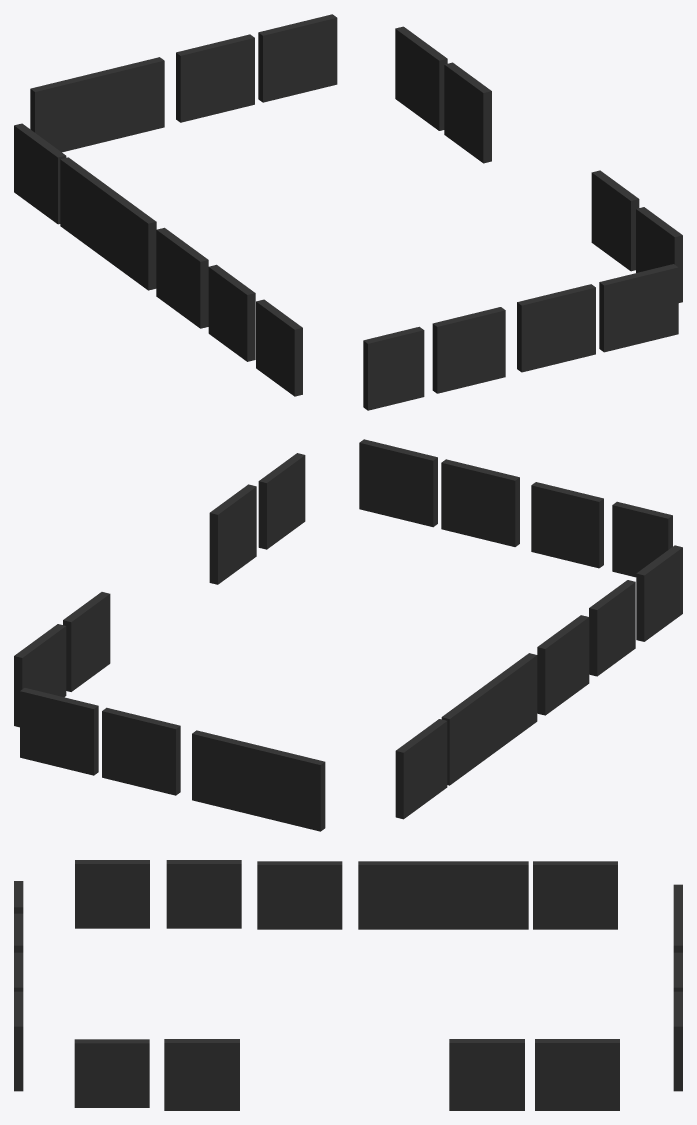
File: pokeVidrio.obj
3 renders of one model, top to bottom at view 1: azimuth 30°, elevation 25°; view 2: azimuth 150°, elevation 25°; view 3: azimuth 270°, elevation 25°, orthographic. The views are drawn at different scales.
Parts seen in each view (by area): view 1: pasted__pasted__pasted__pasted__pasted__pasted__pasted__pasted__, group94 pasted__pasted__pasted__pasted__pasted__pasted__pasted__, pasted__pasted__pasted__pasted__pasted__pasted__pasted__pCube18 , pasted__pasted__pasted__pCube18 pasted__pasted__group84 pasted__, pasted__pasted__pasted__pasted__pCube18 pasted__pasted__pasted__, pasted__pasted__pasted__pasted__pasted__pCube13 pasted__pasted__, pasted__pasted__pasted__pasted__pCube13 pasted__pasted__pasted__, pasted__pasted__pCube13 pasted__group71 group82, pasted__pasted__pCube18 pasted__group84 group85, pasted__pasted__pasted__pasted__pasted__pasted__pCube18 pasted__, pasted__pCube18 group84, pasted__pasted__pasted__pasted__pasted__pCube18 pasted__pasted__ (+1 smaller); view 2: pasted__pasted__pasted__pasted__pasted__pasted__pasted__pasted__, group94 pasted__pasted__pasted__pasted__pasted__pasted__pasted__, pasted__pasted__pasted__pasted__pasted__pasted__pasted__pCube18 , pasted__pasted__pasted__pCube18 pasted__pasted__group84 pasted__, pasted__pasted__pasted__pasted__pasted__pasted__pCube18 pasted__, pasted__pasted__pCube13 pasted__group71 group82, pCube18, pasted__pasted__pasted__pasted__pasted__pCube18 pasted__pasted__, pasted__pasted__pasted__pasted__pCube13 pasted__pasted__pasted__, pasted__pasted__pCube18 pasted__group84 group85, pasted__pCube18 group84, pasted__pasted__pasted__pasted__pCube18 pasted__pasted__pasted__ (+1 smaller); view 3: pasted__pasted__pasted__pasted__pasted__pCube13 pasted__pasted__, pasted__pasted__pasted__pCube18 pasted__pasted__group84 pasted__, pasted__pasted__pasted__pasted__pCube18 pasted__pasted__pasted__, pasted__pasted__pasted__pasted__pasted__pCube18 pasted__pasted__, pasted__pasted__pasted__pasted__pasted__pasted__pCube18 pasted__, pasted__pasted__pasted__pasted__pCube13 pasted__pasted__pasted__, pasted__pasted__pCube13 pasted__group71 group82, pCube18, pasted__pasted__pCube18 pasted__group84 group85, pasted__pCube18 group84, pasted__pasted__pasted__pasted__pasted__pasted__pasted__pasted__, group94 pasted__pasted__pasted__pasted__pasted__pasted__pasted__.
Boxes of the visible parts, x1,y1,x2,y2 form: pasted__pasted__pasted__pasted__pasted__pasted__pasted__pasted__: (92,14,678,352); group94 pasted__pasted__pasted__pasted__pasted__pasted__pasted__: (363,284,595,410); pasted__pasted__pasted__pasted__pasted__pasted__pasted__pCube18 : (30,73,96,152); pasted__pasted__pasted__pCube18 pasted__pasted__group84 pasted__: (156,227,208,328); pasted__pasted__pasted__pasted__pCube18 pasted__pasted__pasted__: (104,189,156,290); pasted__pasted__pasted__pasted__pasted__pCube13 pasted__pasted__: (395,26,447,130); pasted__pasted__pasted__pasted__pCube13 pasted__pasted__pasted__: (444,62,491,163); pasted__pasted__pCube13 pasted__group71 group82: (591,170,639,271); pasted__pasted__pCube18 pasted__group84 group85: (208,264,255,361); pasted__pasted__pasted__pasted__pasted__pasted__pCube18 pasted__: (14,123,66,224); pasted__pCube18 group84: (256,299,302,396); pasted__pasted__pasted__pasted__pasted__pCube18 pasted__pasted__: (60,157,111,257); pasted__pasted__pasted__pasted__pasted__pasted__pasted__pasted__: (20,439,437,816); group94 pasted__pasted__pasted__pasted__pasted__pasted__pasted__: (441,459,672,577); pasted__pasted__pasted__pasted__pasted__pasted__pasted__pCube18 : (260,747,325,831); pasted__pasted__pasted__pCube18 pasted__pasted__group84 pasted__: (537,615,589,715); pasted__pasted__pasted__pasted__pasted__pasted__pCube18 pasted__: (395,719,447,819); pasted__pasted__pCube13 pasted__group71 group82: (209,484,256,584); pCube18: (258,453,305,549); pasted__pasted__pasted__pasted__pasted__pCube18 pasted__pasted__: (441,685,493,785); pasted__pasted__pasted__pasted__pCube13 pasted__pasted__pasted__: (63,592,110,691); pasted__pasted__pCube18 pasted__group84 group85: (589,580,635,676); pasted__pCube18 group84: (636,545,682,641); pasted__pasted__pasted__pasted__pCube18 pasted__pasted__pasted__: (486,653,537,752); pasted__pasted__pasted__pasted__pasted__pCube13 pasted__pasted__: (535,1039,619,1110); pasted__pasted__pasted__pCube18 pasted__pasted__group84 pasted__: (257,861,342,929); pasted__pasted__pasted__pasted__pCube18 pasted__pasted__pasted__: (358,861,443,929); pasted__pasted__pasted__pasted__pasted__pCube18 pasted__pasted__: (443,861,528,929); pasted__pasted__pasted__pasted__pasted__pasted__pCube18 pasted__: (533,861,617,929); pasted__pasted__pasted__pasted__pCube13 pasted__pasted__pasted__: (449,1039,524,1110); pasted__pasted__pCube13 pasted__group71 group82: (164,1039,239,1110); pCube18: (74,1039,149,1107); pasted__pasted__pCube18 pasted__group84 group85: (166,860,241,928); pasted__pCube18 group84: (75,860,149,928); pasted__pasted__pasted__pasted__pasted__pasted__pasted__pasted__: (14,913,682,1091); group94 pasted__pasted__pasted__pasted__pasted__pasted__pasted__: (14,881,23,991).
Size of the model in its own units: 13.18 by 2.27 by 20.22.
18 materials, 18 textured.
